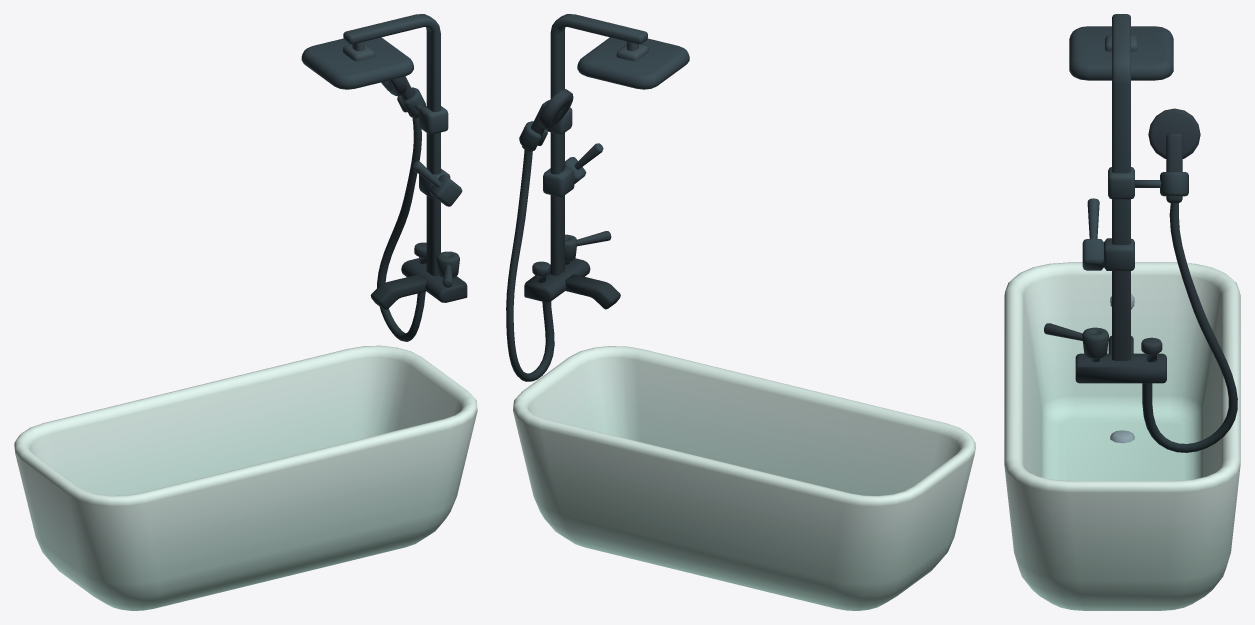
Rendered from bath_03.glb.
The picture shows the model from 3 angles, left to right: view 1: azimuth 30°, elevation 25°; view 2: azimuth 150°, elevation 25°; view 3: azimuth 270°, elevation 25°; orthographic projection. The views are drawn at different scales.
Visible parts, largest first — view 1: Bath_03; view 2: Bath_03; view 3: Bath_03.
Part boxes in pixels (box(x1,y1,x2,y2)): Bath_03: box(14, 14, 477, 610); Bath_03: box(506, 14, 975, 610); Bath_03: box(1004, 14, 1240, 610).
Bounding box in the file's own units: 1.79 × 2.14 × 0.7945.
1 material, 1 textured.
